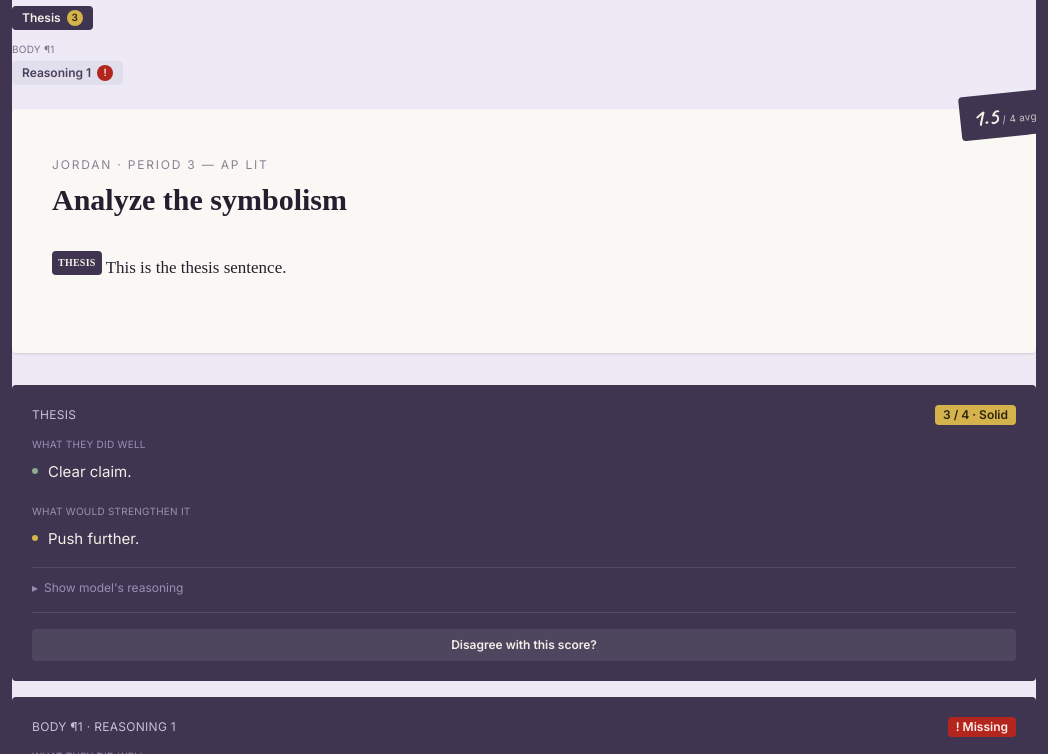
Test: GradedView › saving a correction updates the badge, shows the audit line, and increments the corrected count in the Finish bar
Click the button "Disagree with this score?" at (524, 645), box [32,629,1016,661]
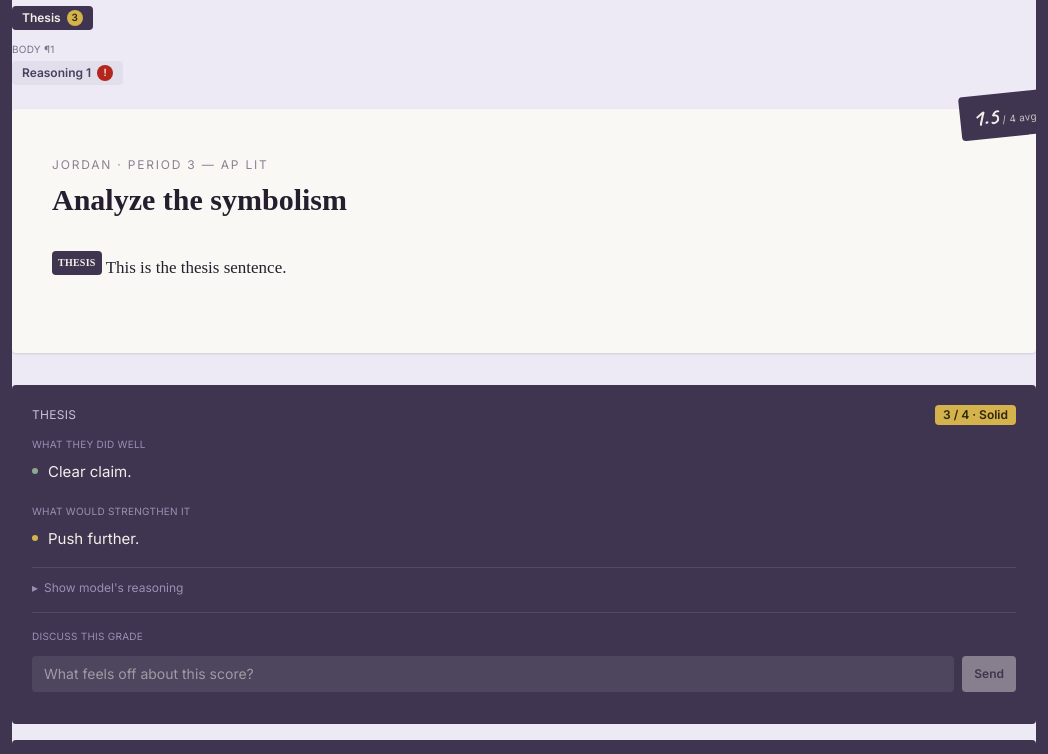
Type "Too generous." into the field with placeholder "What feels off about this score?" at (493, 674), box [32,656,954,692]
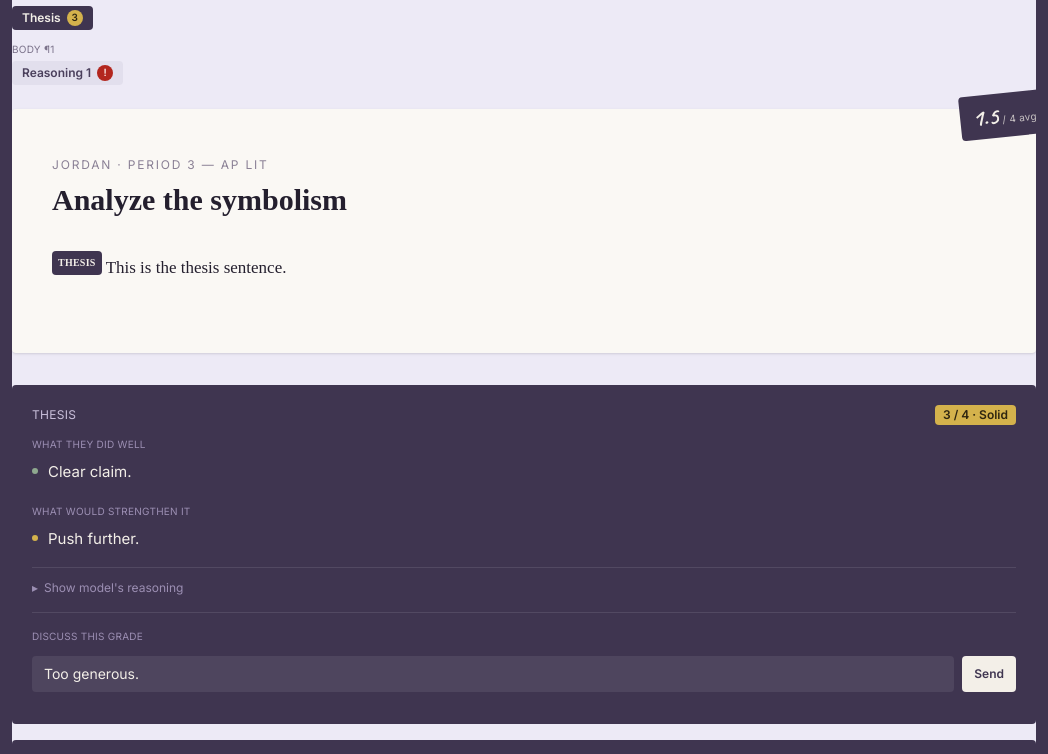
Click the button "Send" at (989, 674), box [962,656,1016,692]
(page scrolled)
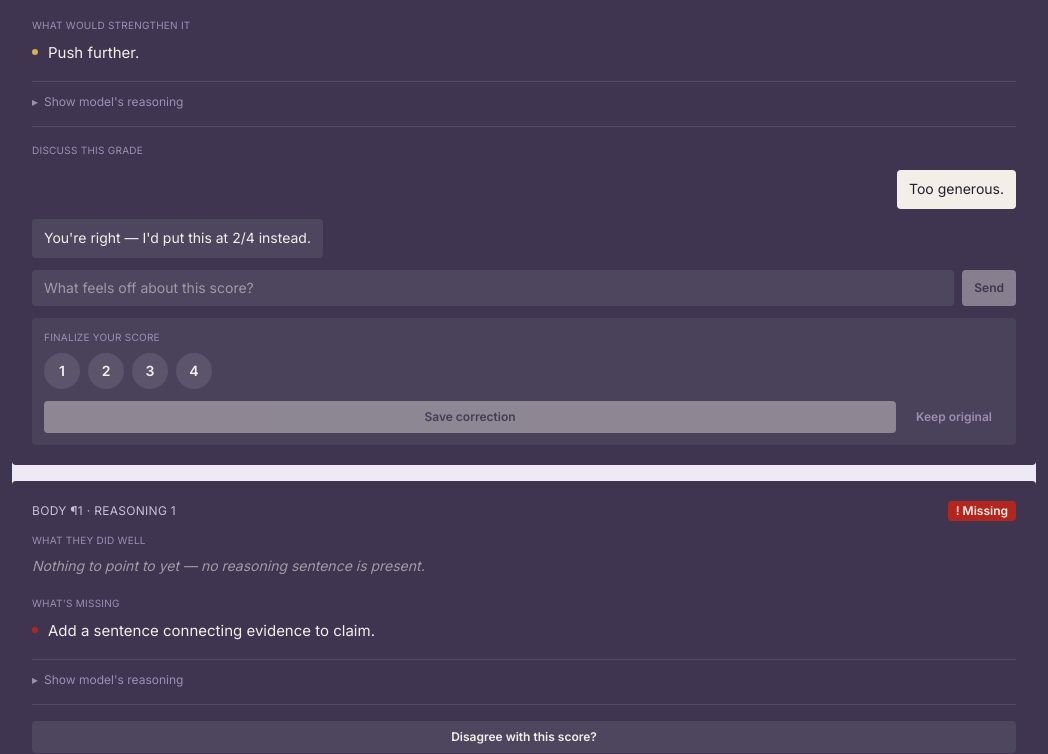
Result: the text "Finalize your score" is shown at [44,331,160,343]
Click the button "2" at (106, 371), box [88,353,124,389]
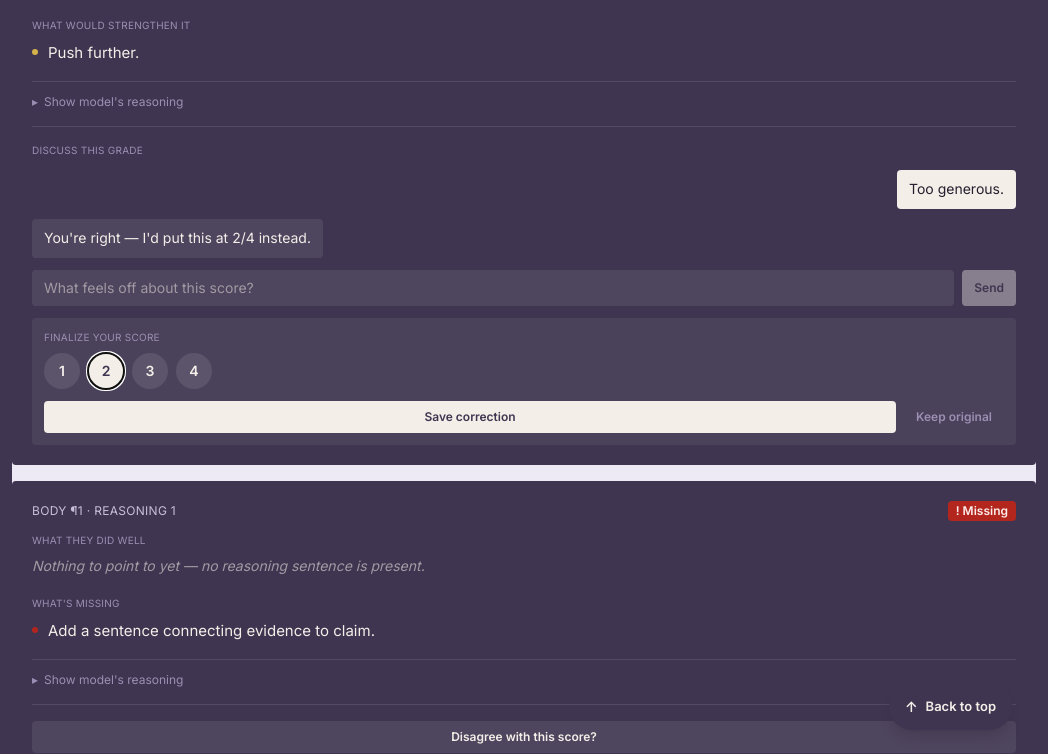
Click the button "Save correction" at (470, 417), box [44,401,896,433]
(page scrolled)
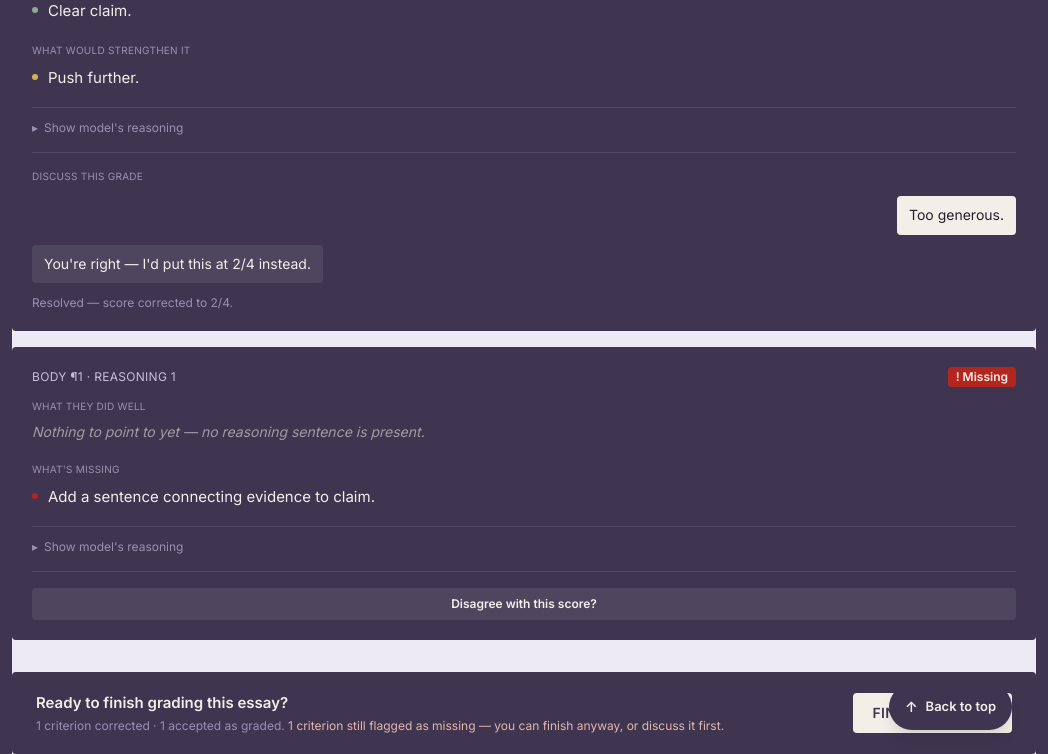
Result: the text "1 criterion corrected · 1 accepted as graded." is shown at [36,718,285,733]
